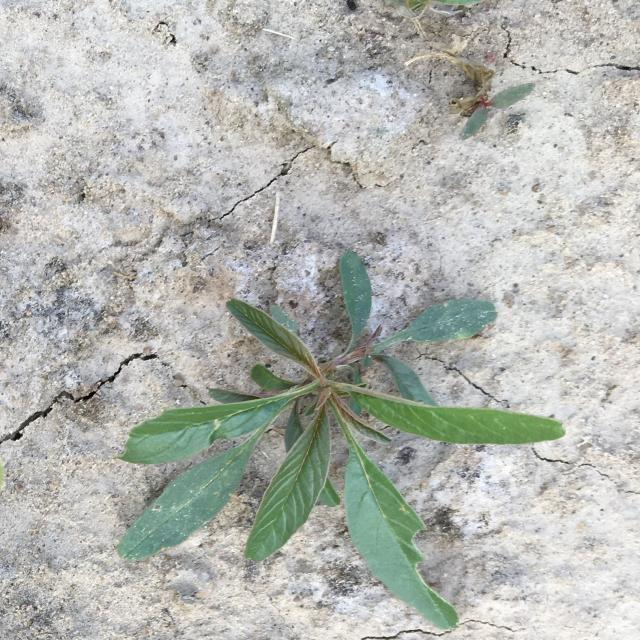Waterhemp: (115, 250, 568, 632)
